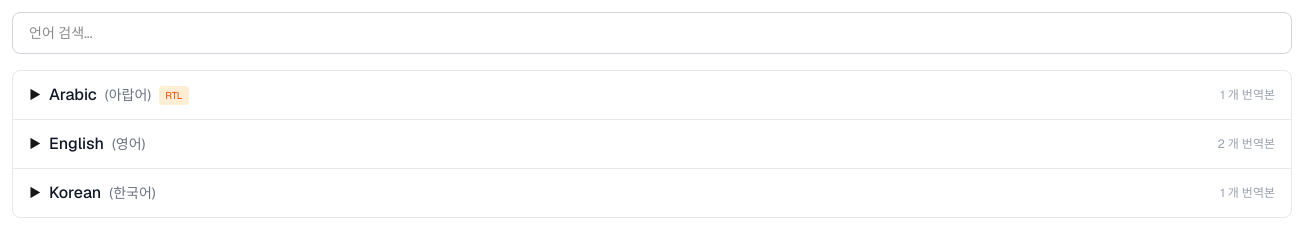
Test: TranslationBrowser › search/filter translations › filters by Korean language name
This screenshot has width=1304, height=235.
In the field with placeholder "언어 검색...": (652, 33) [12,12,1292,54], type "한국어"
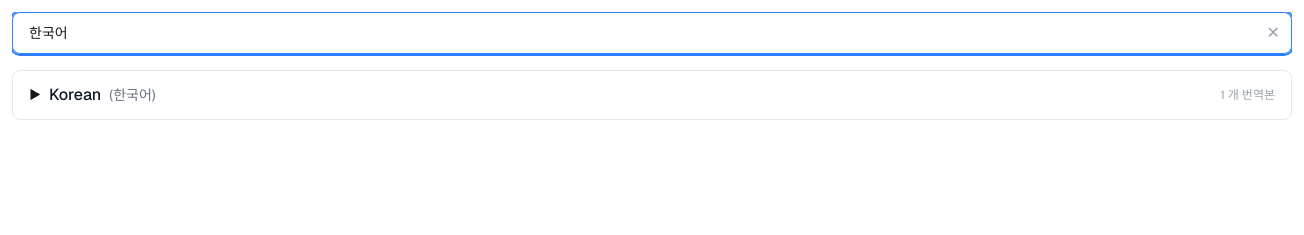
Check: the text "Korean" is shown, box [49,83,101,107]
Check: the button "English" is gone
